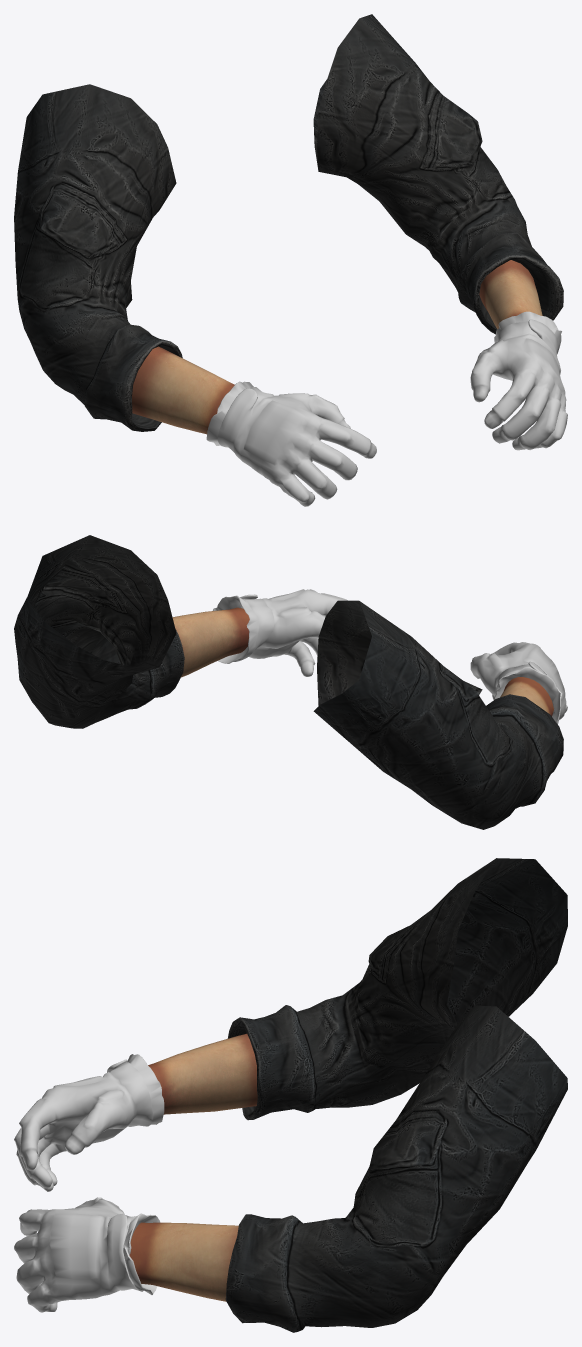
The model's file is arm.fbx.
3 renders of one model, top to bottom at view 1: azimuth 30°, elevation 25°; view 2: azimuth 150°, elevation 25°; view 3: azimuth 270°, elevation 25°, orthographic. The views are drawn at different scales.
Parts seen in each view (by area): view 1: Arm03; view 2: Arm03; view 3: Arm03.
Part boxes in pixels (x1,y1,x2,y2): Arm03: (14, 14, 567, 506); Arm03: (14, 535, 567, 829); Arm03: (14, 858, 567, 1332).
Bounding box in the file's own units: 53.33 × 30.02 × 47.59.
